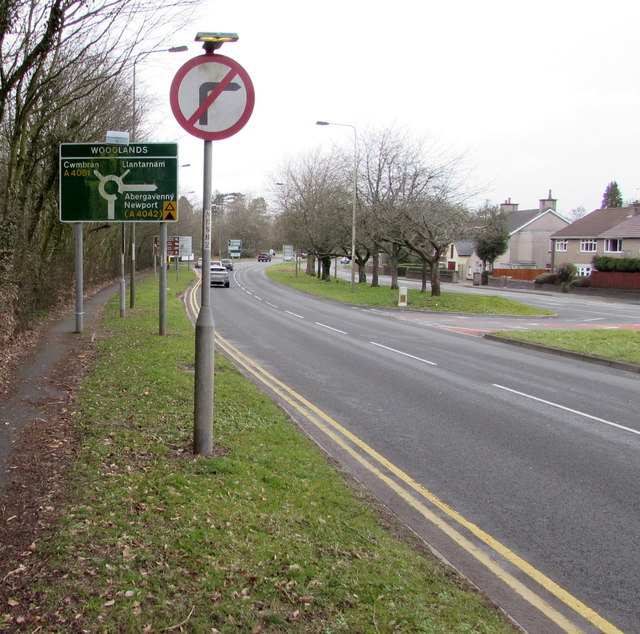No_right_turn: (169, 55, 255, 141)
